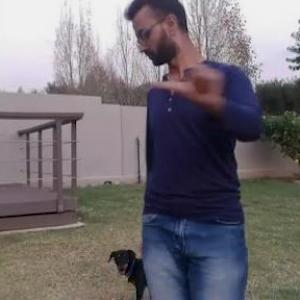land_hand: (155, 23, 242, 109)
